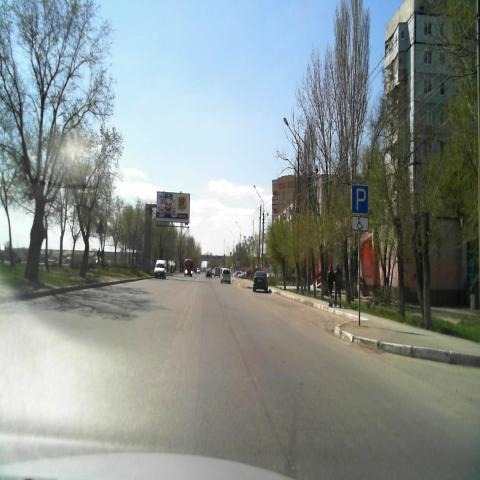8_17: (351, 216, 369, 232)
